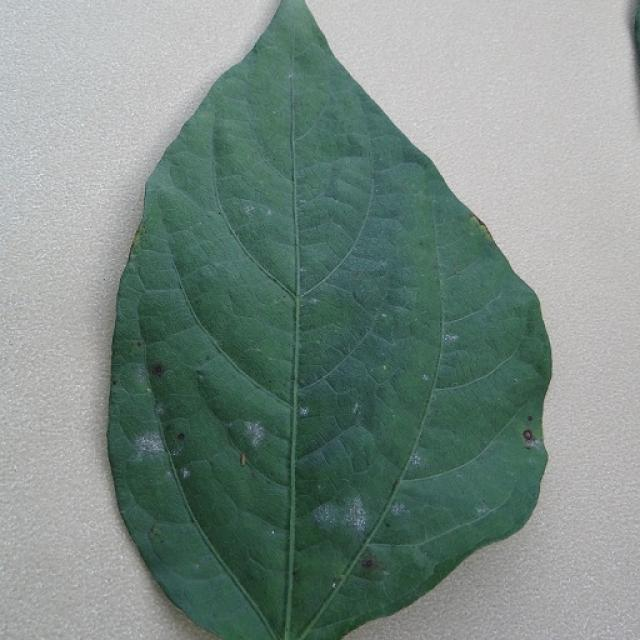Blackgram: (108, 0, 550, 639)
Powdery_Mildew: (285, 423, 399, 548), (293, 338, 400, 447), (121, 376, 178, 483), (145, 522, 226, 581), (224, 406, 279, 462), (296, 351, 354, 388), (227, 416, 274, 455), (130, 432, 169, 464), (313, 501, 342, 530), (163, 428, 186, 463), (522, 429, 540, 450), (390, 500, 407, 517), (149, 525, 164, 543), (136, 367, 149, 386), (155, 402, 166, 417), (444, 333, 458, 344), (475, 504, 488, 515), (306, 296, 320, 305), (245, 204, 255, 215), (181, 468, 191, 479), (353, 402, 360, 415), (197, 373, 205, 382), (297, 377, 304, 387)
